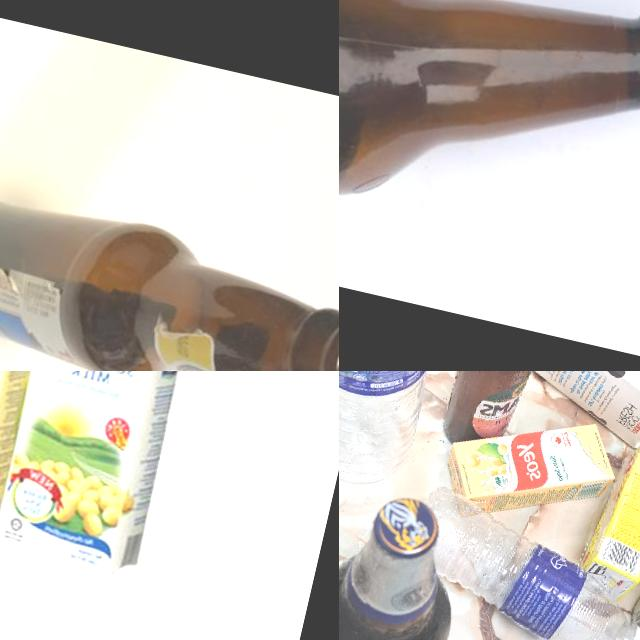caixinha: (0, 371, 194, 580), (436, 392, 628, 548), (457, 371, 640, 464), (575, 425, 640, 608), (16, 379, 22, 382)
garrafa de vidro: (339, 0, 640, 292), (0, 172, 339, 371), (339, 483, 475, 640), (440, 371, 561, 455)
garrafa plástica: (400, 484, 640, 640), (339, 371, 465, 490)
